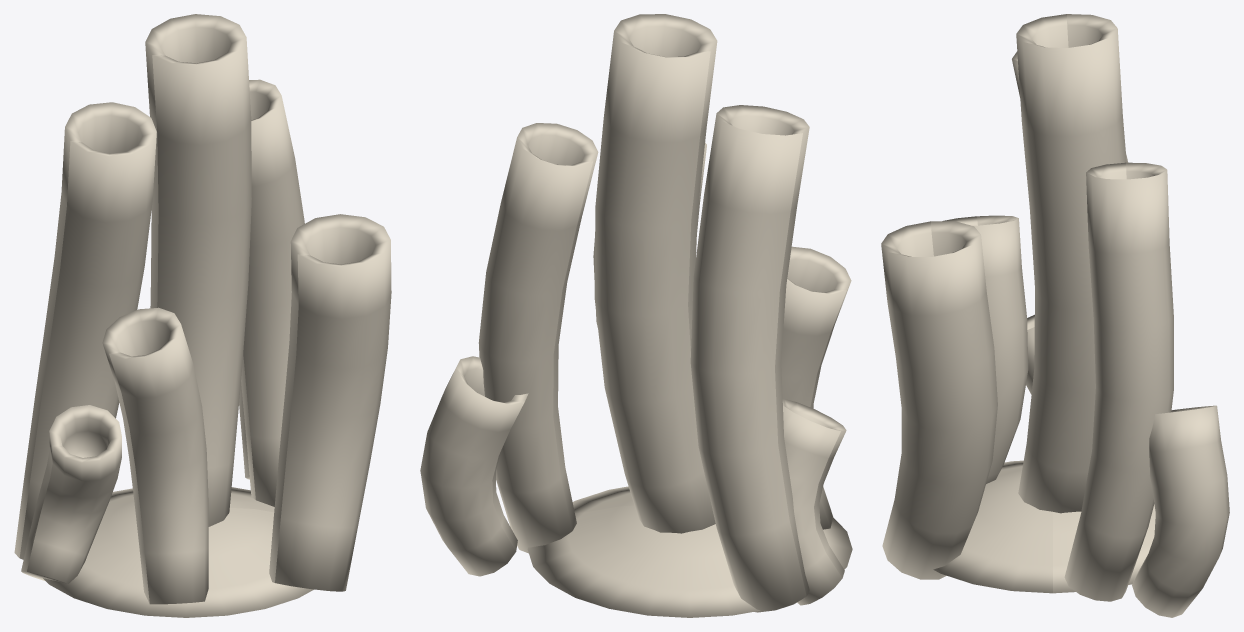
Rendered from sponge_tube.glb.
3 views of the same model, side by side, from view 1: azimuth 30°, elevation 25°; view 2: azimuth 150°, elevation 25°; view 3: azimuth 270°, elevation 25° (orthographic). The views are drawn at different scales.
Visible parts, largest first — view 1: sponge_tube; view 2: sponge_tube; view 3: sponge_tube.
Boxes of the visible parts, <box> form: sponge_tube: <box>14,14,391,617</box>; sponge_tube: <box>420,14,852,617</box>; sponge_tube: <box>881,14,1229,617</box>.
Size of the model in its own units: 0.7482 by 1.09 by 0.6581.
